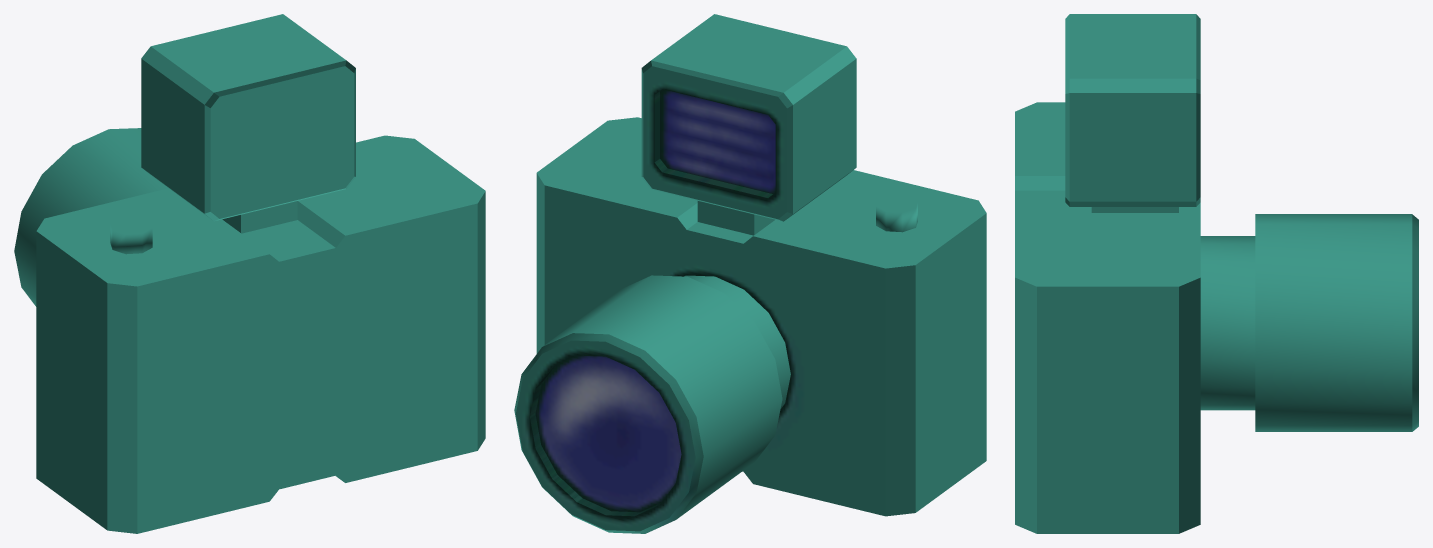
The model's file is geki.ico.obj.
3 renders of one model, left to right at view 1: azimuth 30°, elevation 25°; view 2: azimuth 150°, elevation 25°; view 3: azimuth 270°, elevation 25°, orthographic.
Size of the model in its own units: 2.5 by 2.5 by 2.31.
Materials: 1 (1 with a texture image).
